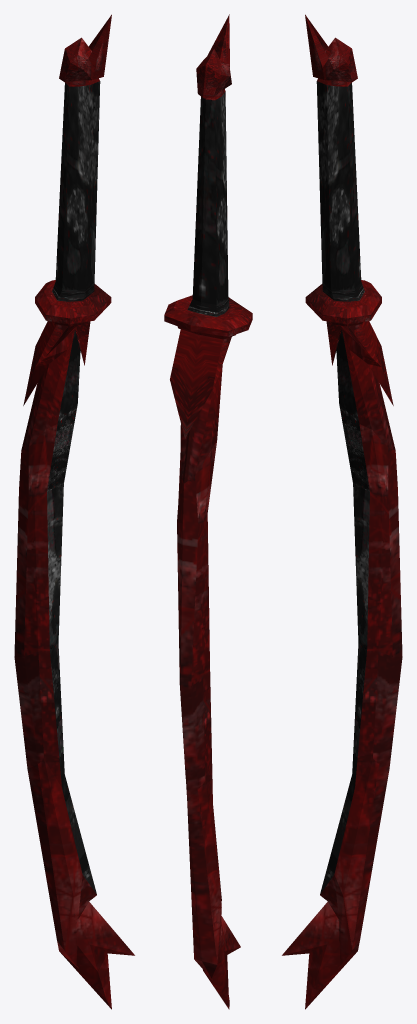
The model's file is ParasiteZed_Sword.fbx.
3 renders of one model, left to right at view 1: azimuth 90°, elevation 25°; view 2: azimuth 150°, elevation 25°; view 3: azimuth 270°, elevation 25°, orthographic.
Parts seen in each view (by area): view 1: ParasiteZed_Sword; view 2: ParasiteZed_Sword; view 3: ParasiteZed_Sword.
Boxes of the visible parts, x1,y1,x2,y2 form: ParasiteZed_Sword: (14,14,134,1009); ParasiteZed_Sword: (164,14,252,1009); ParasiteZed_Sword: (282,14,402,1009).
Bounding box in the file's own units: 0.0542 × 0.6453 × 0.0711.
